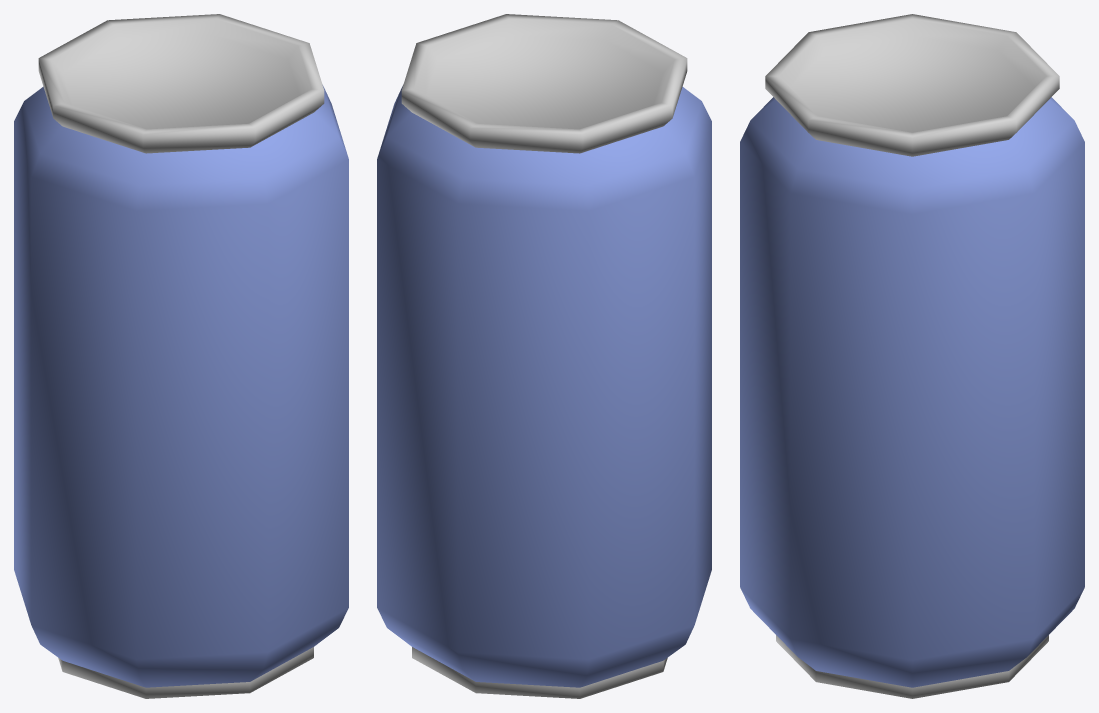
Rendered from can.glb.
3 renders of one model, left to right at view 1: azimuth 30°, elevation 25°; view 2: azimuth 150°, elevation 25°; view 3: azimuth 270°, elevation 25°, orthographic.
Parts seen in each view (by area): view 1: game_vending_machine_drinkcan, game_vending_machine_drinkcan.001; view 2: game_vending_machine_drinkcan, game_vending_machine_drinkcan.001; view 3: game_vending_machine_drinkcan, game_vending_machine_drinkcan.001.
Part boxes in pixels (x1,y1,x2,y2): game_vending_machine_drinkcan: (14,85,348,687); game_vending_machine_drinkcan.001: (38,14,324,698); game_vending_machine_drinkcan: (377,85,711,687); game_vending_machine_drinkcan.001: (401,14,687,698); game_vending_machine_drinkcan: (740,97,1084,687); game_vending_machine_drinkcan.001: (765,14,1059,698).
Bounding box in the file's own units: 3.56 × 6.43 × 3.56.
